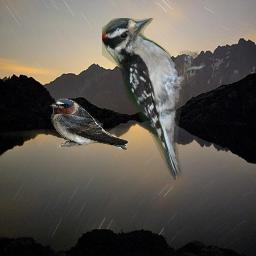Swallow: (49, 98, 129, 151)
Woodpecker: (102, 18, 206, 180)
